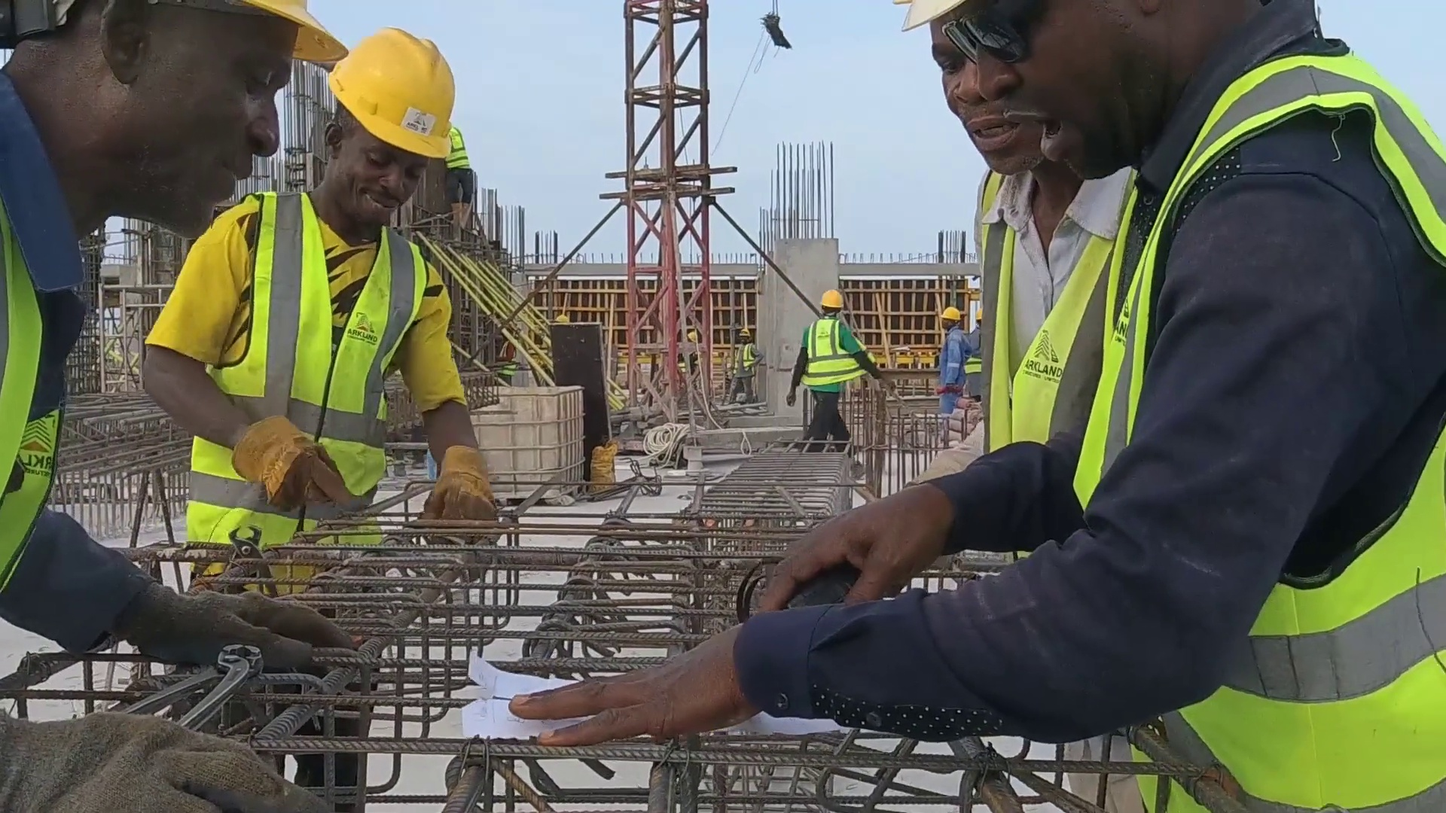helmet: (328, 24, 457, 160), (225, 1, 349, 64), (898, 1, 974, 31), (819, 289, 844, 309), (941, 306, 961, 321), (739, 329, 751, 336), (975, 308, 981, 321)
person: (508, 1, 1445, 811), (139, 30, 505, 808), (1, 2, 352, 679), (910, 17, 1134, 486), (784, 289, 890, 452), (936, 306, 972, 416), (443, 118, 474, 227), (729, 330, 762, 405), (961, 308, 983, 403)
